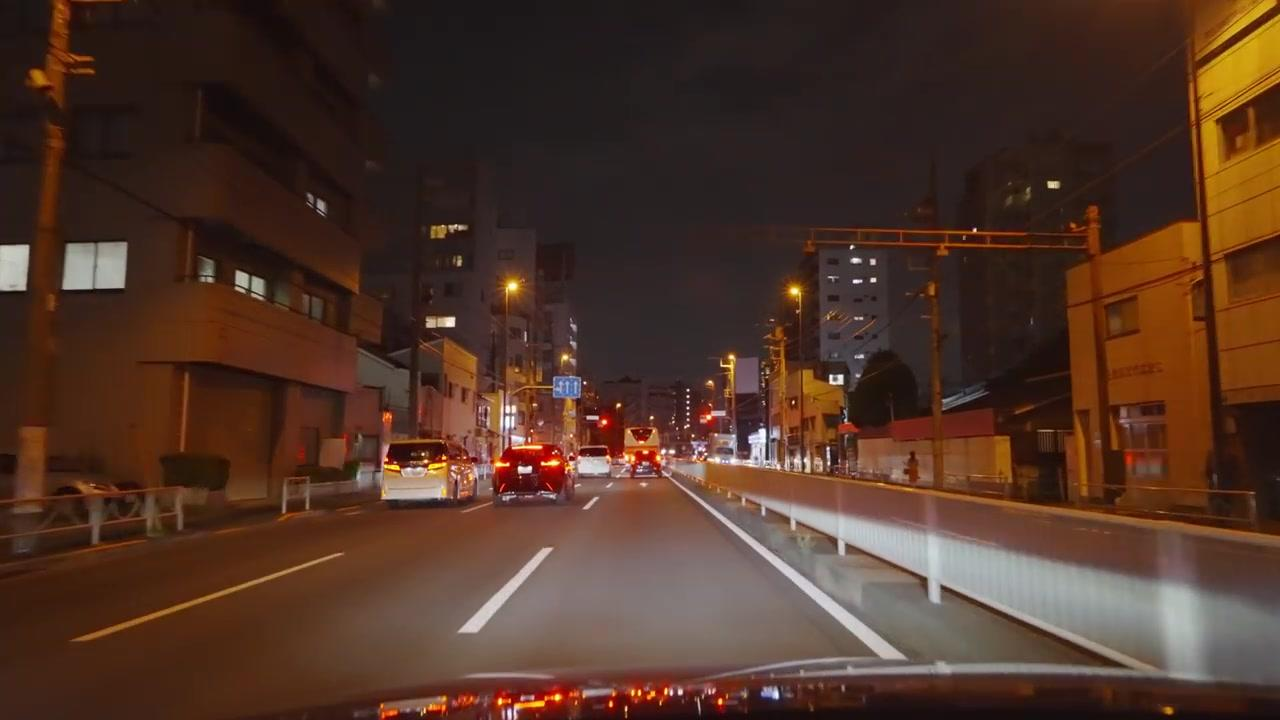bus: (623, 425, 663, 476)
car: (380, 437, 478, 504), (491, 443, 576, 504), (625, 434, 661, 477), (576, 445, 613, 480), (630, 457, 659, 477)
person: (903, 450, 920, 484)
traffic light: (702, 407, 713, 426)
